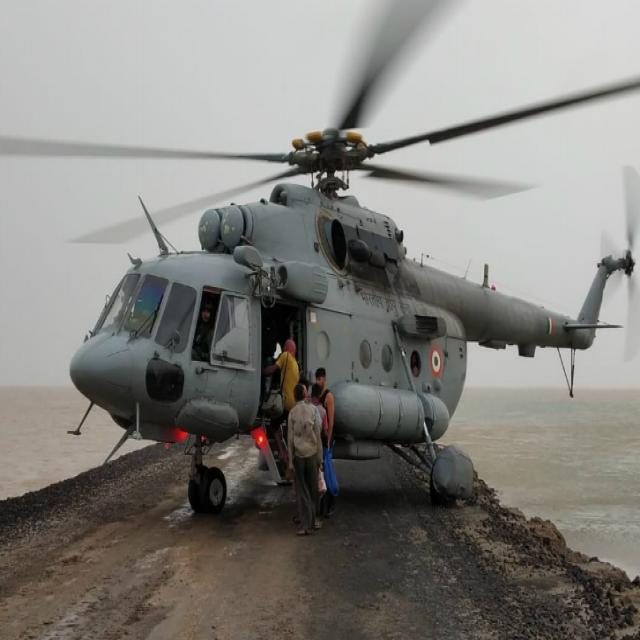helicopter: (1, 23, 640, 520)
